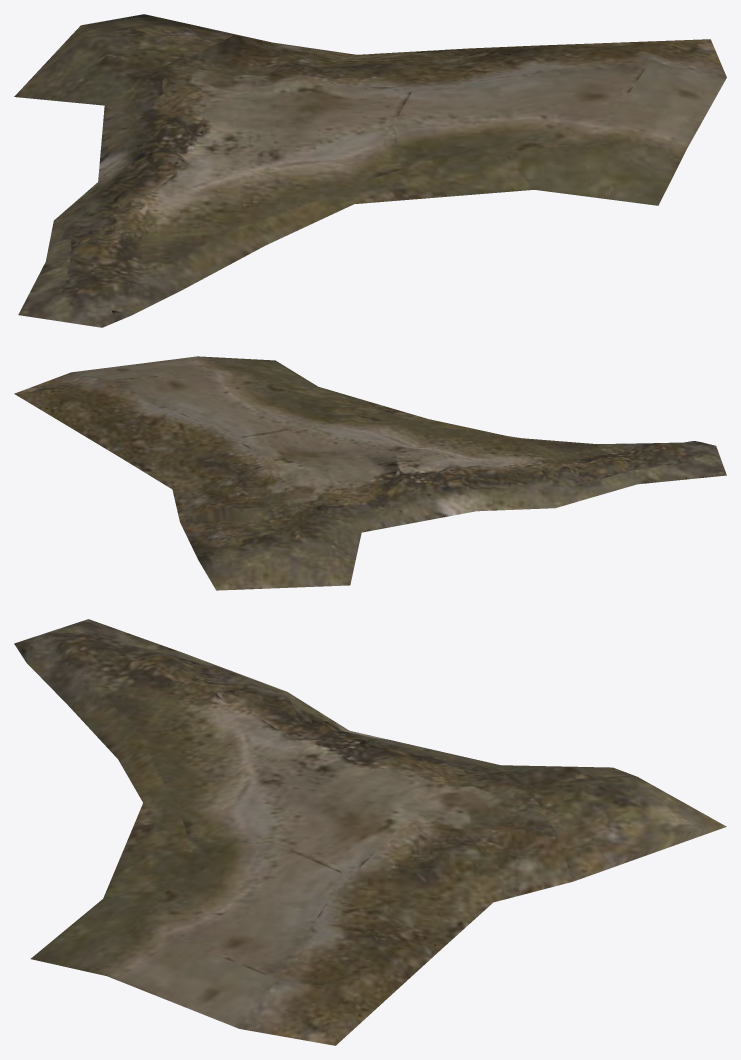
The picture shows the model from 3 angles, top to bottom: view 1: azimuth 30°, elevation 25°; view 2: azimuth 150°, elevation 25°; view 3: azimuth 270°, elevation 25°; orthographic projection. The views are drawn at different scales.
Parts seen in each view (by area): view 1: coast_rocks_01_lod2; view 2: coast_rocks_01_lod2; view 3: coast_rocks_01_lod2.
Part boxes in pixels (<box>): coast_rocks_01_lod2: <box>14,14,726,327</box>; coast_rocks_01_lod2: <box>14,356,726,590</box>; coast_rocks_01_lod2: <box>14,619,726,1045</box>.
Bounding box in the file's own units: 57.17 × 3 × 41.01.
1 material, 1 textured.
